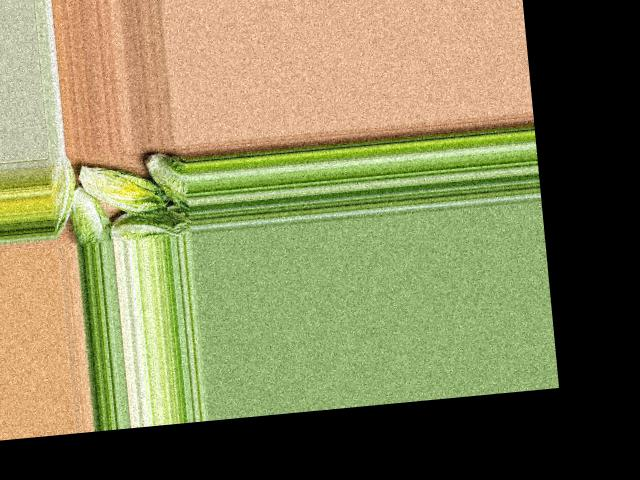lettuce: (46, 156, 82, 237)
